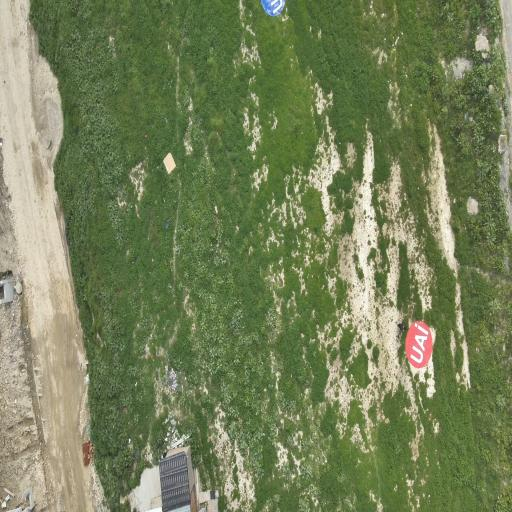person: (398, 323, 406, 331)
uai: (405, 321, 433, 368)
uap: (261, 0, 285, 16)
